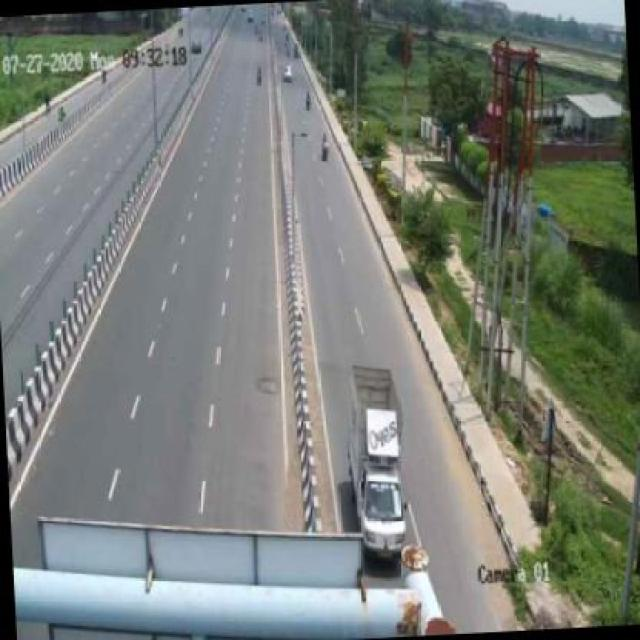car: (340, 352, 417, 558)
